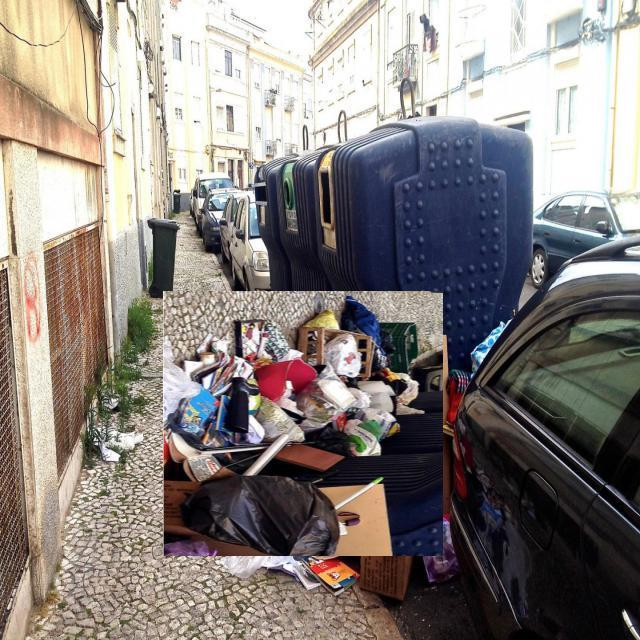Trashbag: (178, 468, 346, 568)
